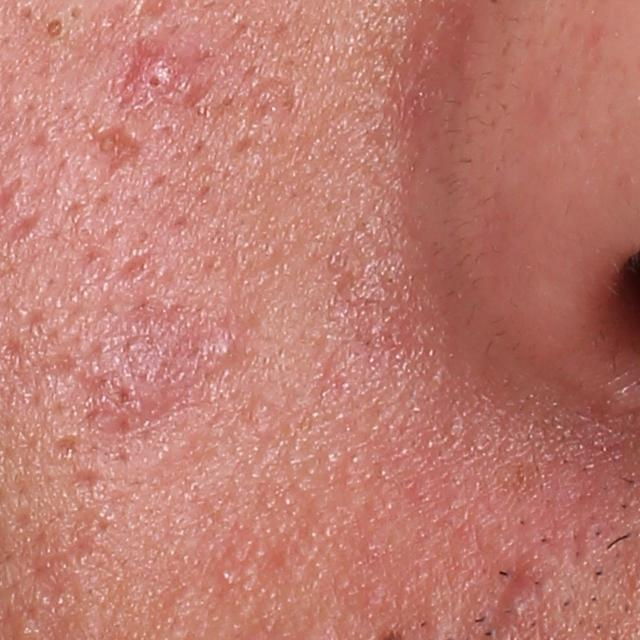atrophic_scar: (235, 73, 297, 122), (91, 129, 140, 186), (0, 210, 43, 248), (110, 254, 153, 283), (182, 75, 218, 109), (50, 433, 81, 458), (69, 466, 104, 488)
comedo: (40, 13, 69, 43), (65, 1, 89, 25)
papule: (124, 43, 186, 101), (498, 579, 538, 634), (203, 326, 242, 366)
